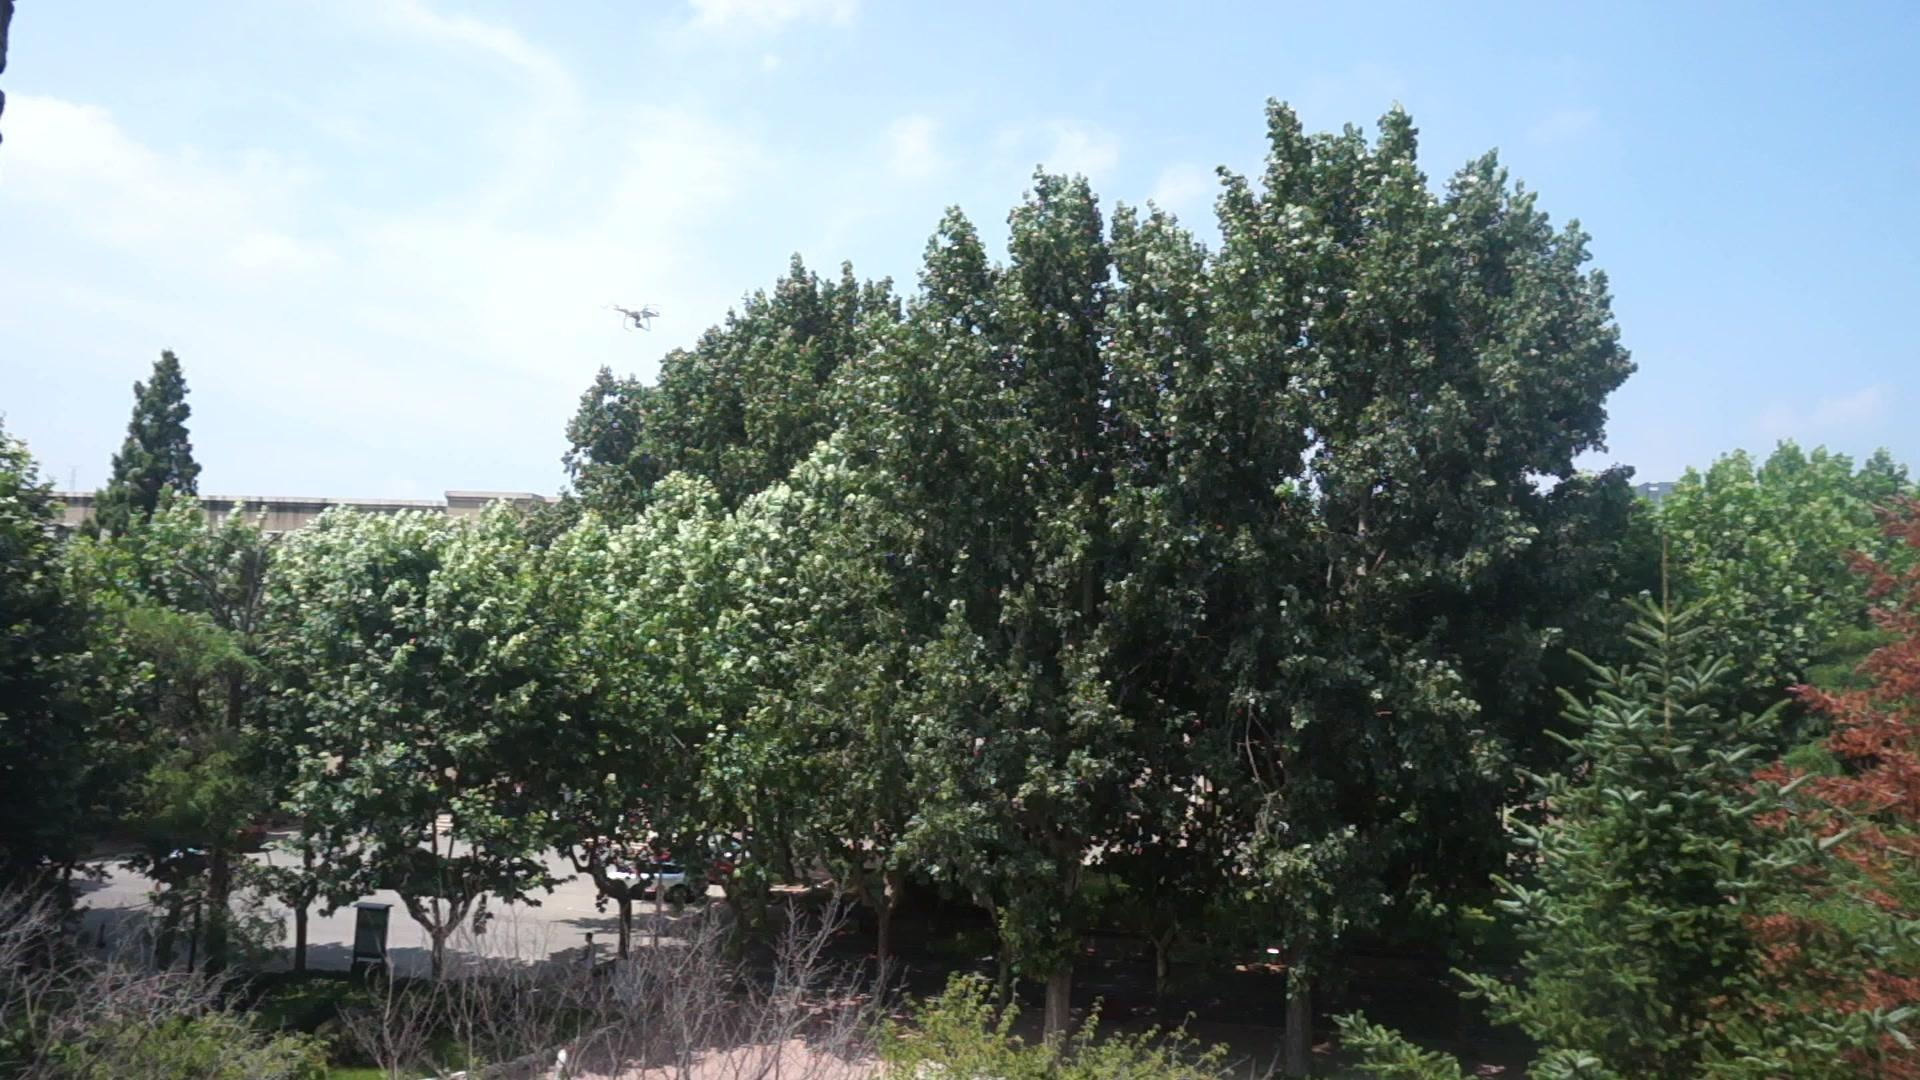UAV: (601, 305, 661, 332)
